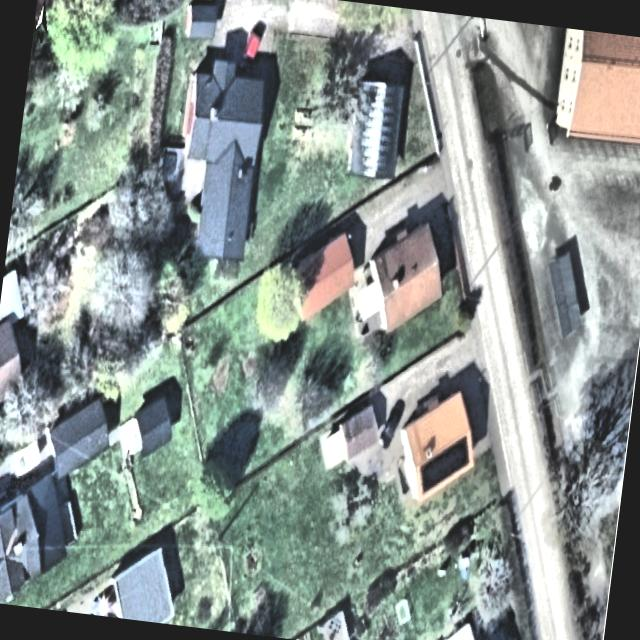roof_pv: (420, 456, 460, 482), (445, 437, 470, 459), (421, 470, 433, 494)
